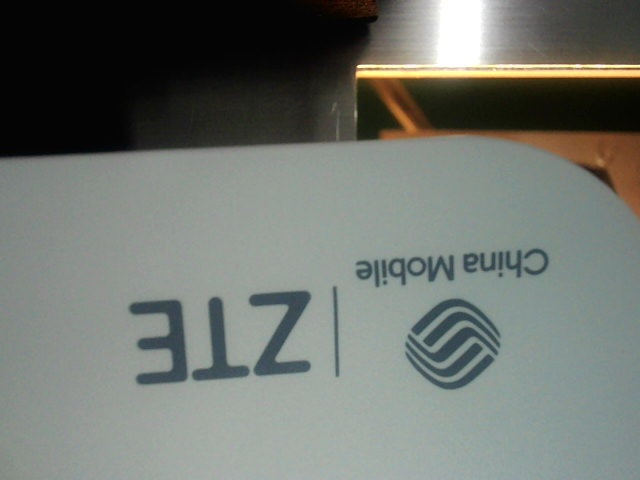AL_ZTEChinaMobile: (115, 244, 575, 399)
